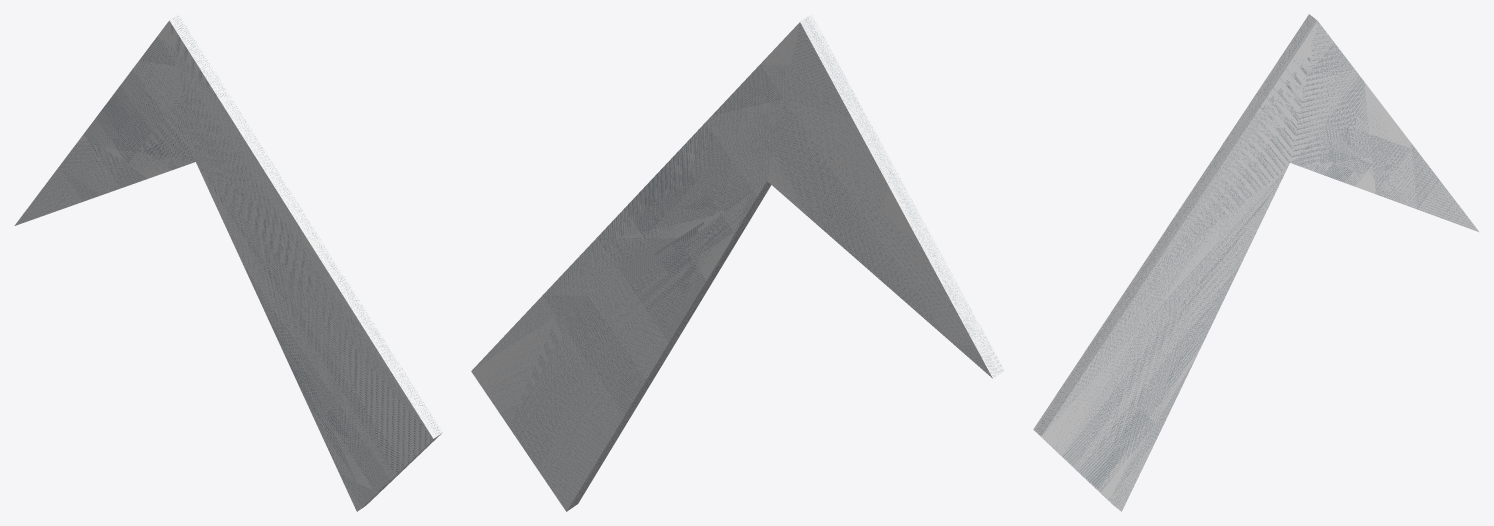
Rendered from senti-mesh-pain-1.dae.
3 views of the same model, side by side, from view 1: azimuth 30°, elevation 25°; view 2: azimuth 210°, elevation 25°; view 3: azimuth 270°, elevation 25° (orthographic). The views are drawn at different scales.
Parts seen in each view (by area): view 1: group_0; view 2: group_0; view 3: group_0.
Part boxes in pixels (<box>): group_0: <box>14,14,442,511</box>; group_0: <box>471,14,1004,511</box>; group_0: <box>1033,14,1479,511</box>.
Size of the model in its own units: 13.83 by 24.55 by 27.09.
